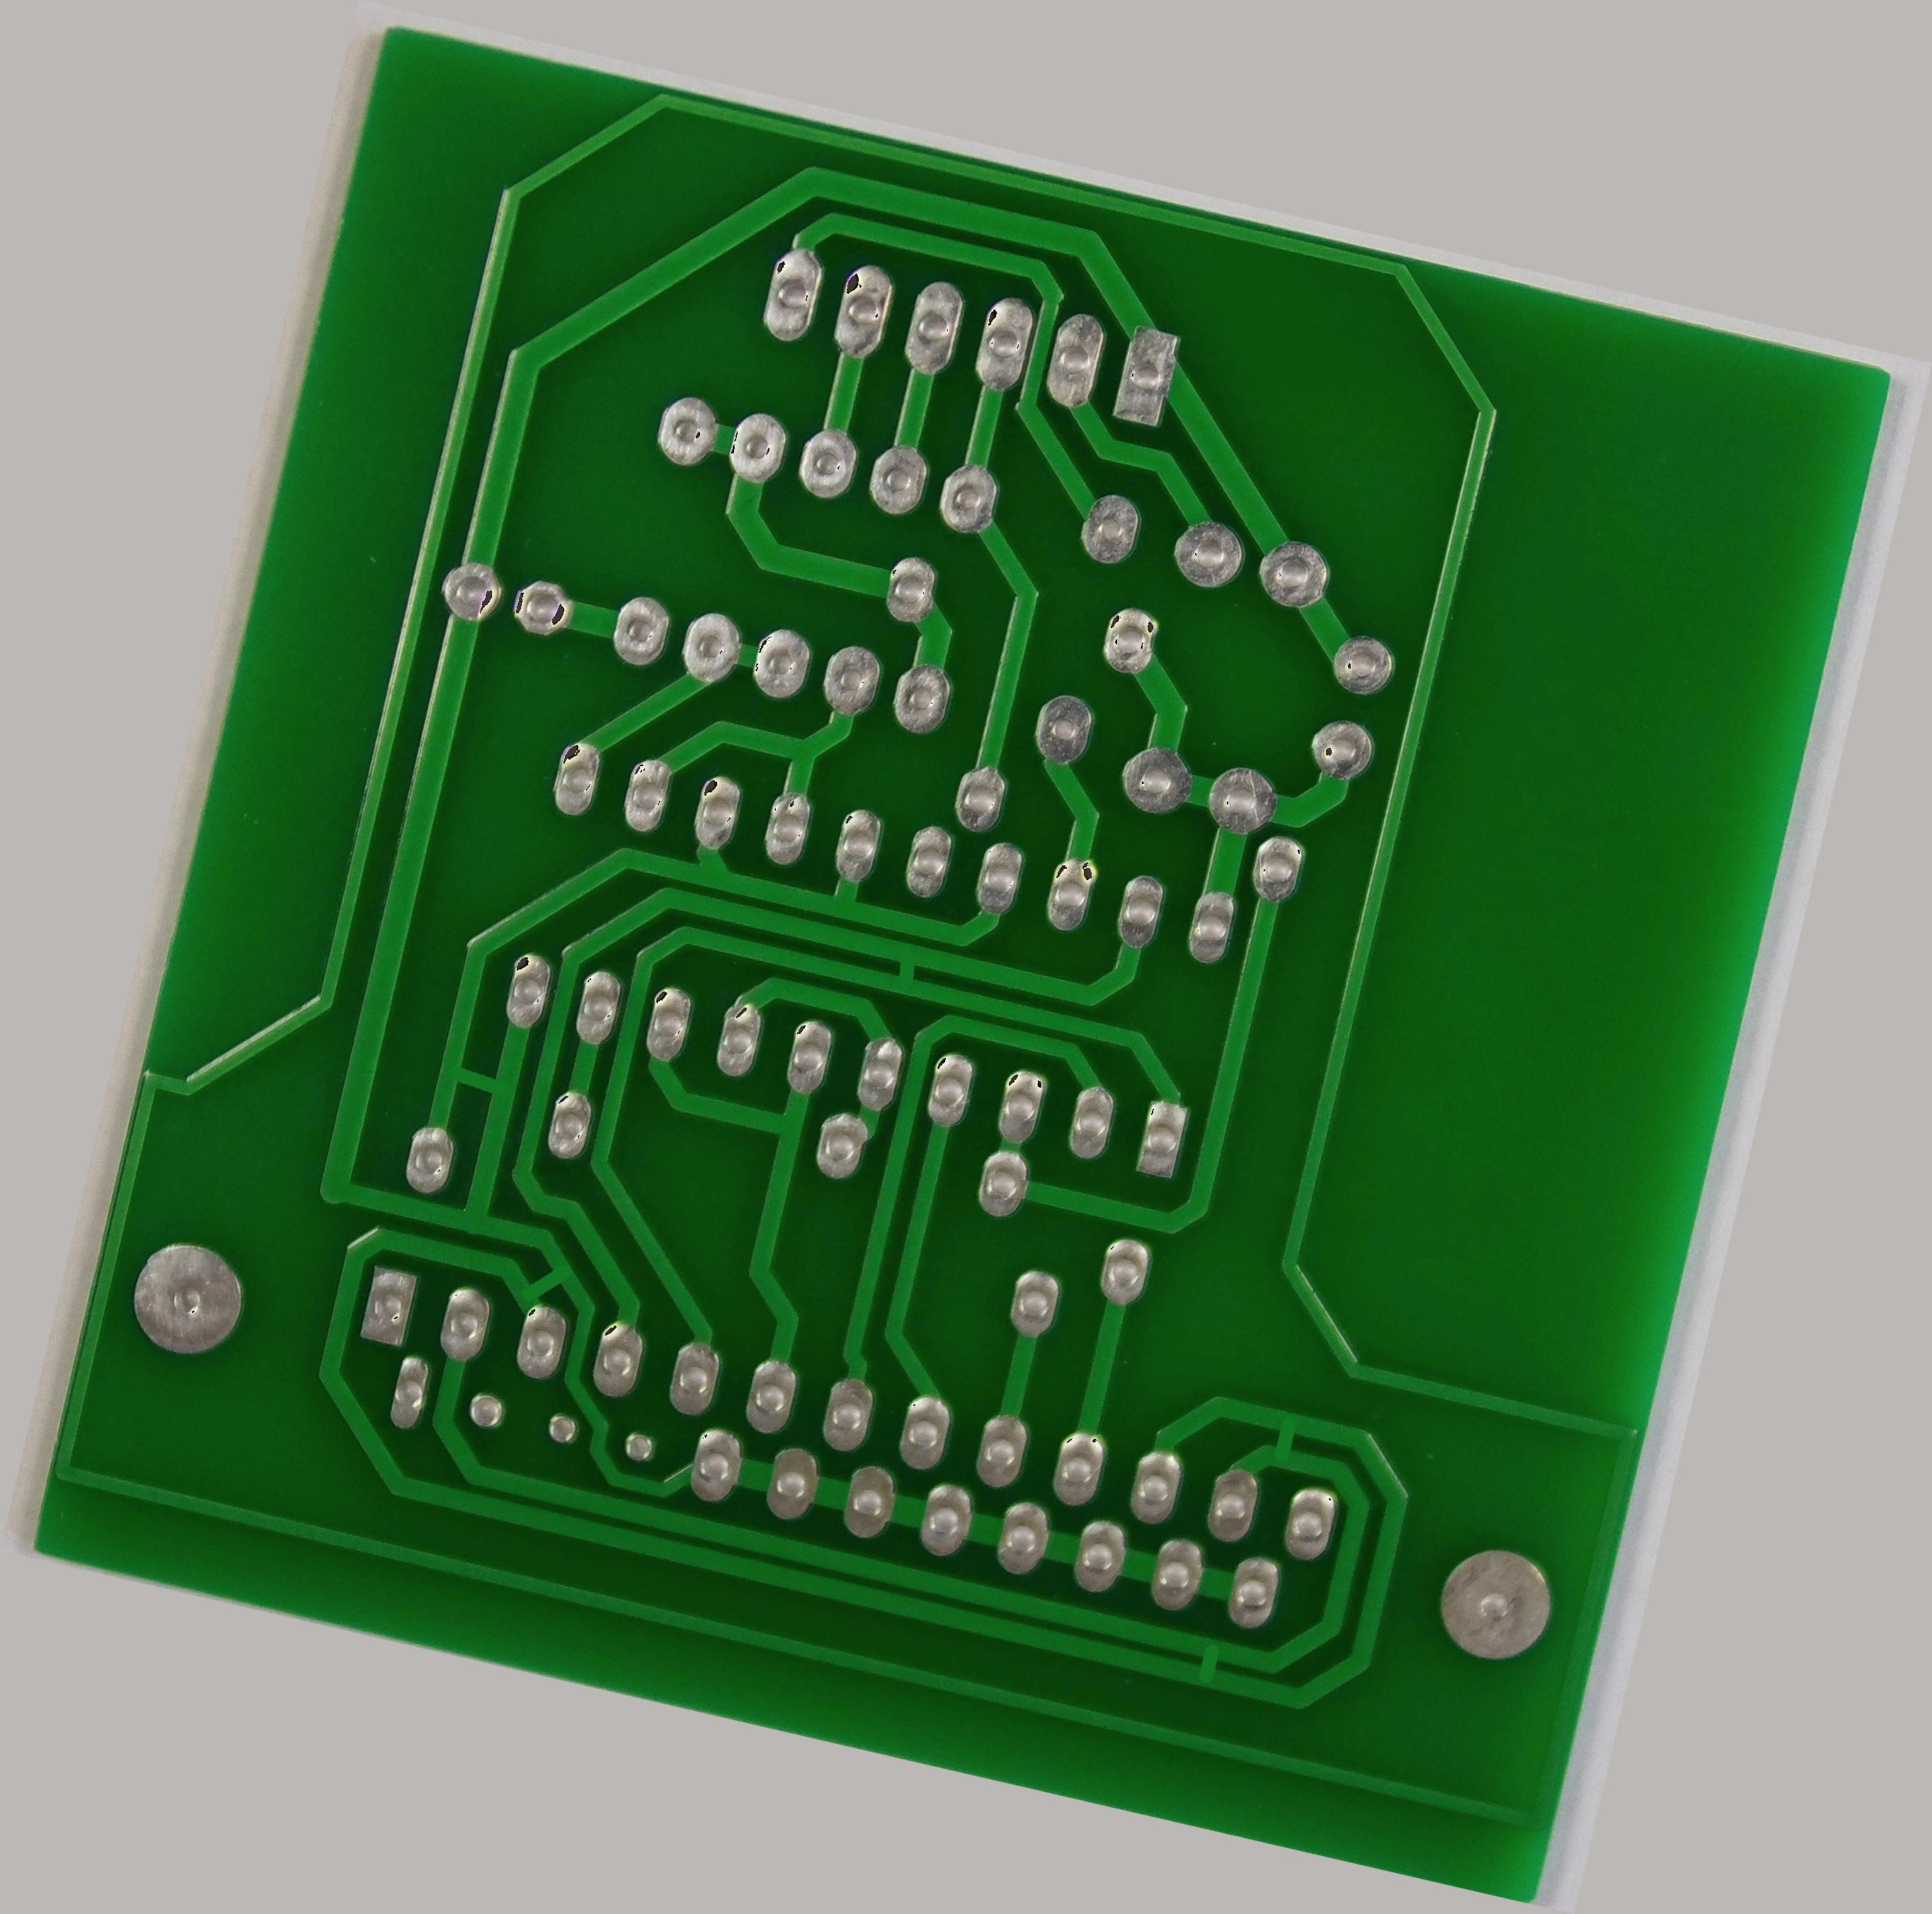short: (415, 1034, 529, 1125), (494, 1243, 585, 1323), (1249, 1395, 1317, 1481), (872, 929, 937, 1003), (1179, 1627, 1238, 1697)
